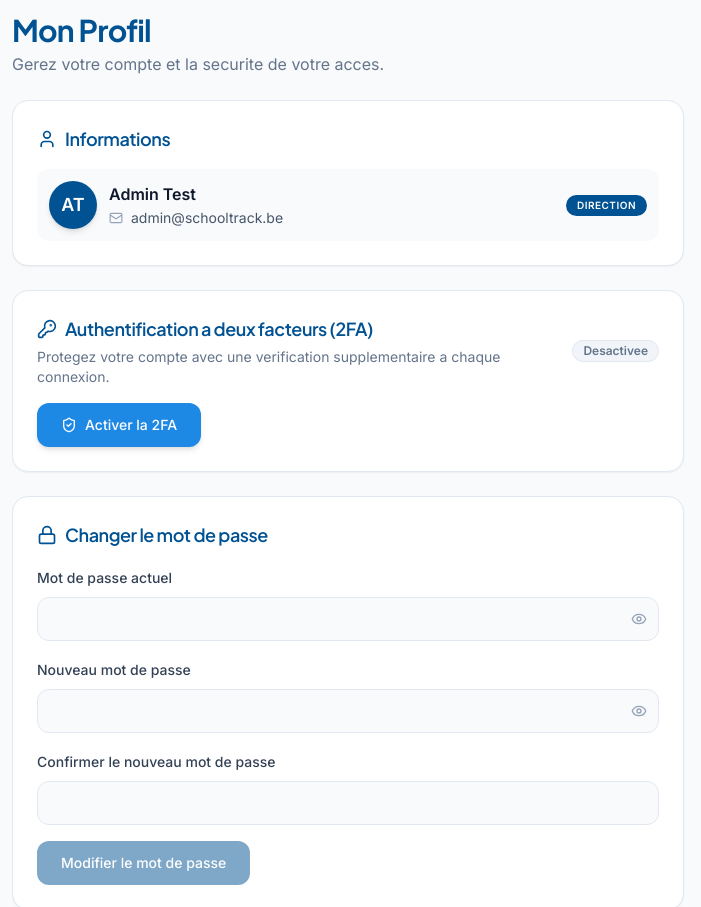
Scenario: ProfileScreen — Activation 2FA par Email › affiche le formulaire email OTP apres choix "Email"
The width and height of the screenshot is (701, 907).
Click the button "Activer la 2FA" at coordinates (119, 425), box [37,403,201,447]
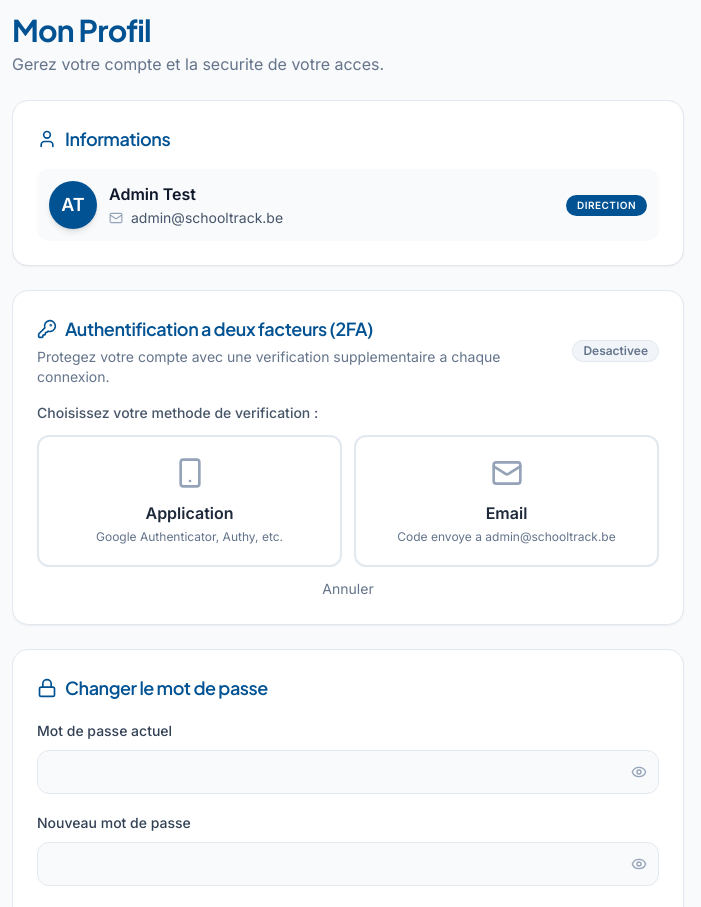
Click the text "Email" at coordinates (507, 513), box [486,503,527,523]
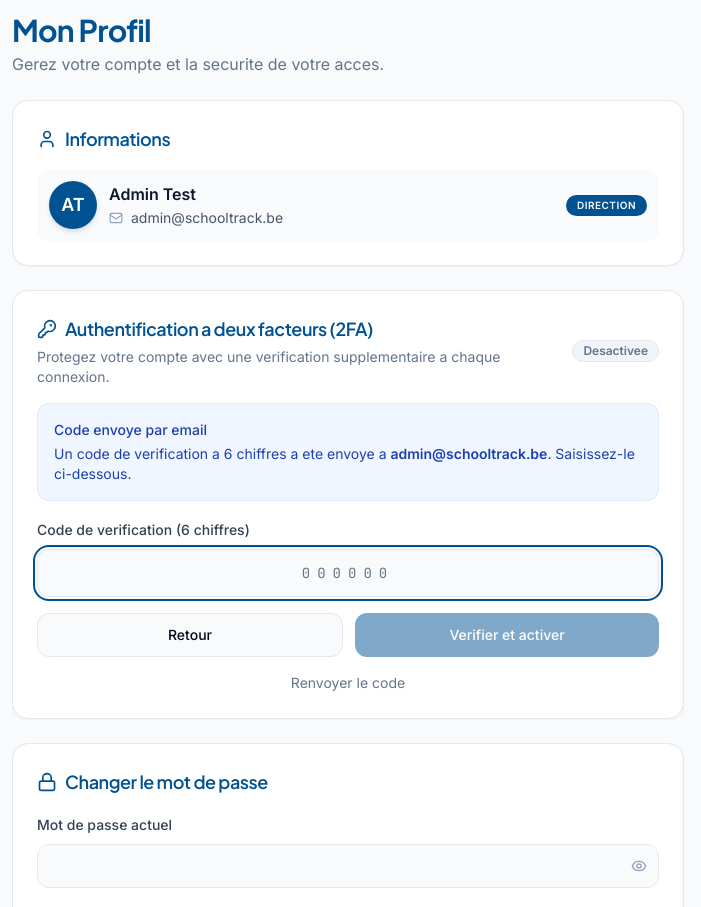
Expected: the text "Code envoye par email" is shown, [54,421,207,438]
Expected: the field labelled "Code de verification (6 chiffres)" is shown, [37,549,659,597]
